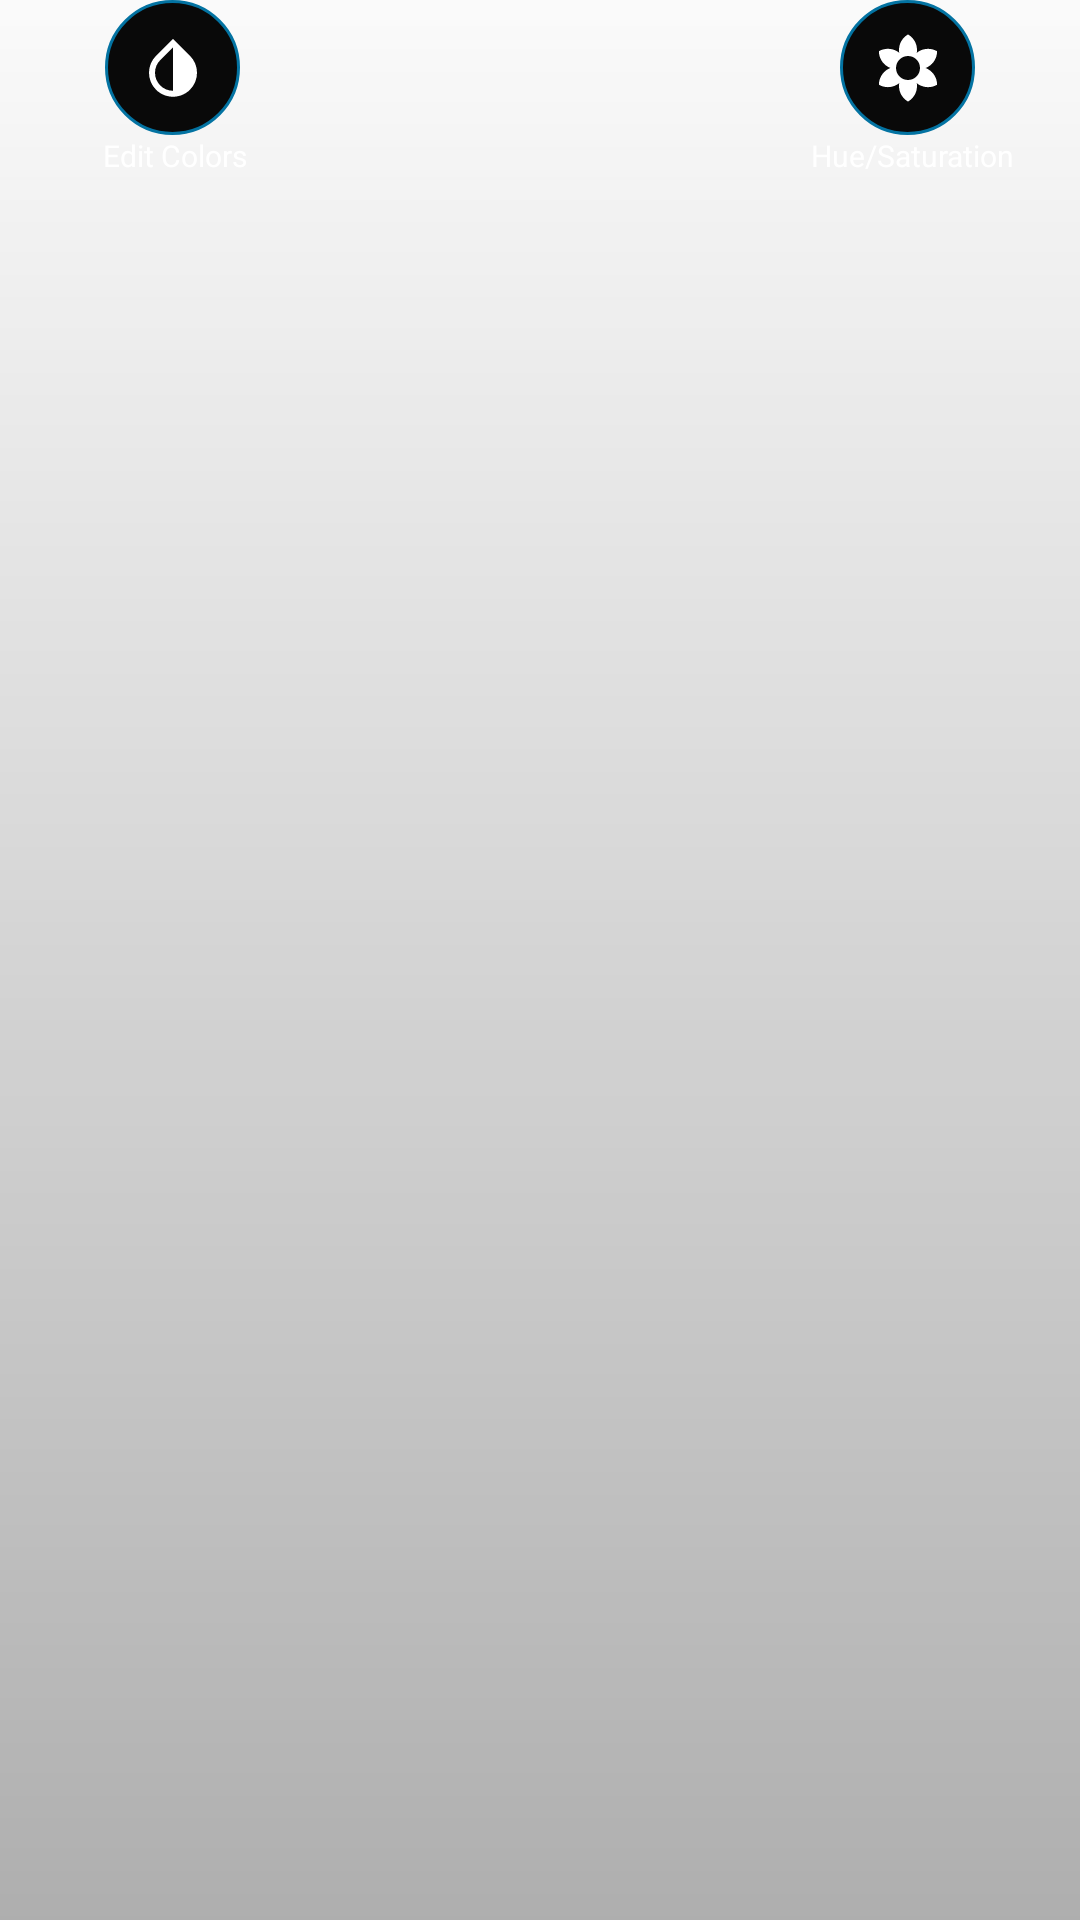

Locate icon controls on the screen. Image size 1080w x 1920h, boxes as (x1, y1, x2, y2).
filter: (840, 0, 975, 135)
invert colors: (105, 0, 240, 135)
